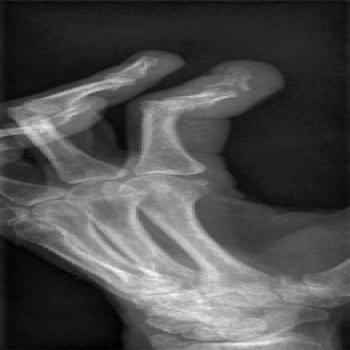Fracture: (192, 80, 266, 100)
